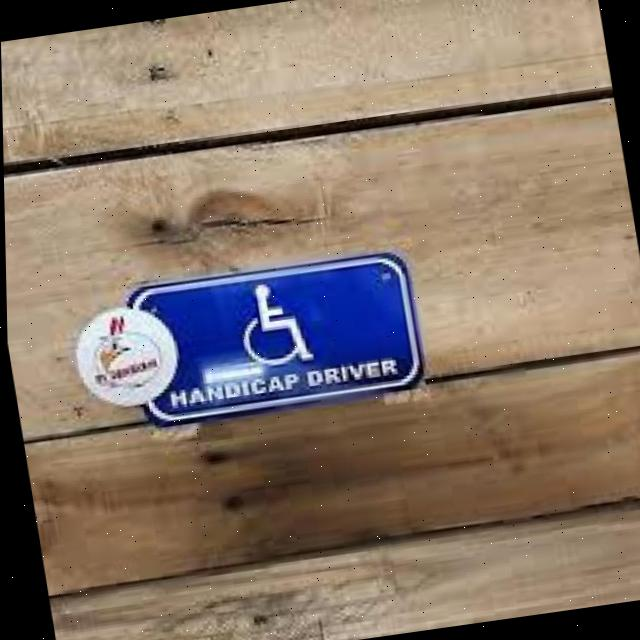symbol_of_access: (235, 278, 313, 369)
